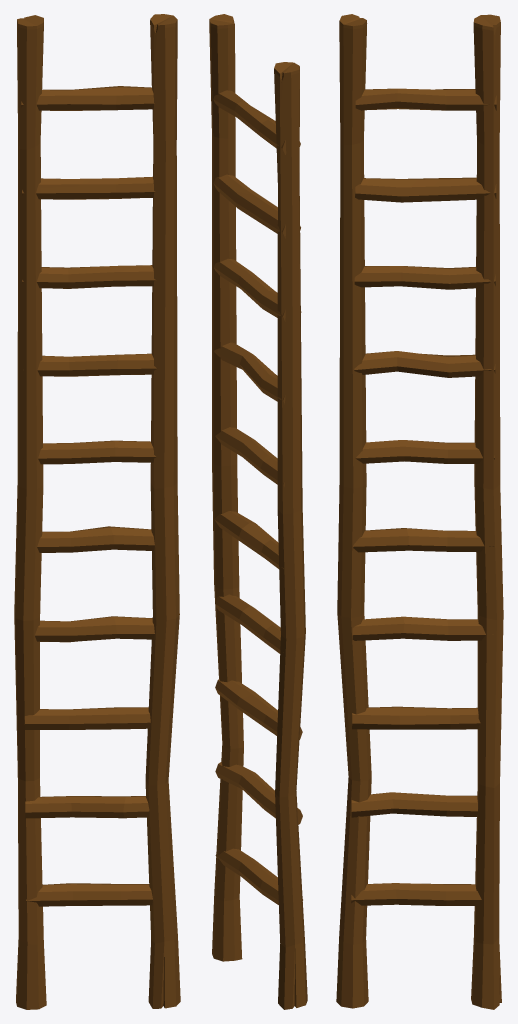
File: Beach_House_Ladder_01.fbx
The picture shows the model from 3 angles, left to right: view 1: azimuth 90°, elevation 25°; view 2: azimuth 210°, elevation 25°; view 3: azimuth 270°, elevation 25°; orthographic projection. The views are drawn at different scales.
Visible parts, largest first — view 1: Beach_House_Ladder_01; view 2: Beach_House_Ladder_01; view 3: Beach_House_Ladder_01.
Part boxes in pixels (x1=…): Beach_House_Ladder_01: x1=14, y1=14, x2=180, y2=1009; Beach_House_Ladder_01: x1=209, y1=14, x2=307, y2=1009; Beach_House_Ladder_01: x1=336, y1=14, x2=503, y2=1009.
Bounding box in the file's own units: 0.2628 × 7.5 × 1.15.
